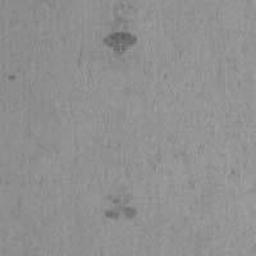Oil spot: (104, 32, 137, 54), (122, 207, 136, 218), (105, 210, 119, 219), (8, 75, 16, 80)
